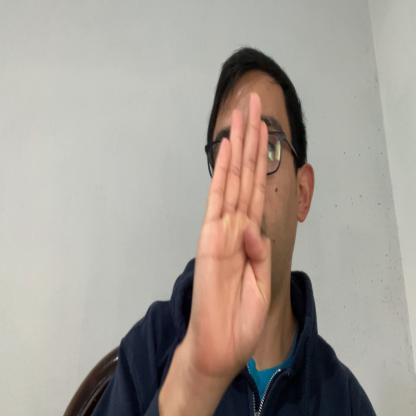B: (192, 93, 272, 372)
